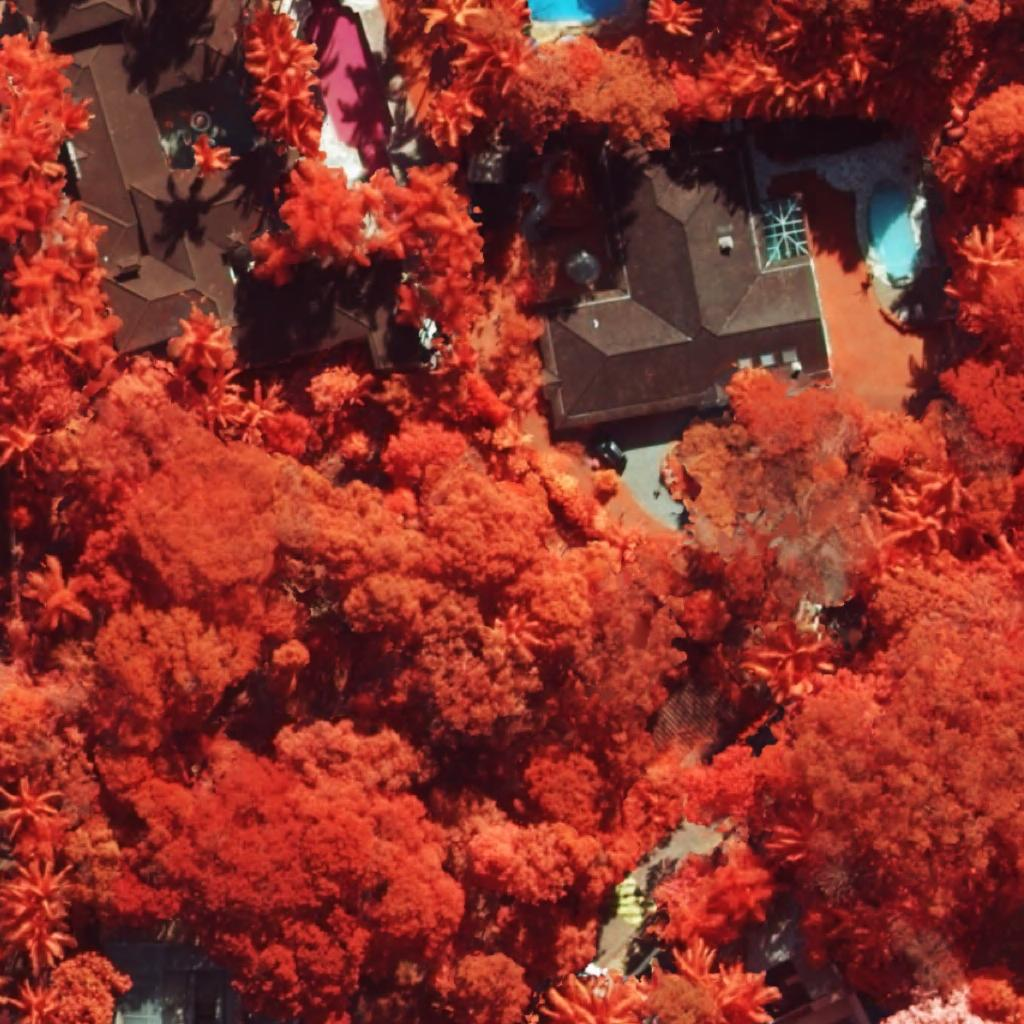pool: (868, 178, 918, 281), (527, 0, 625, 23)
